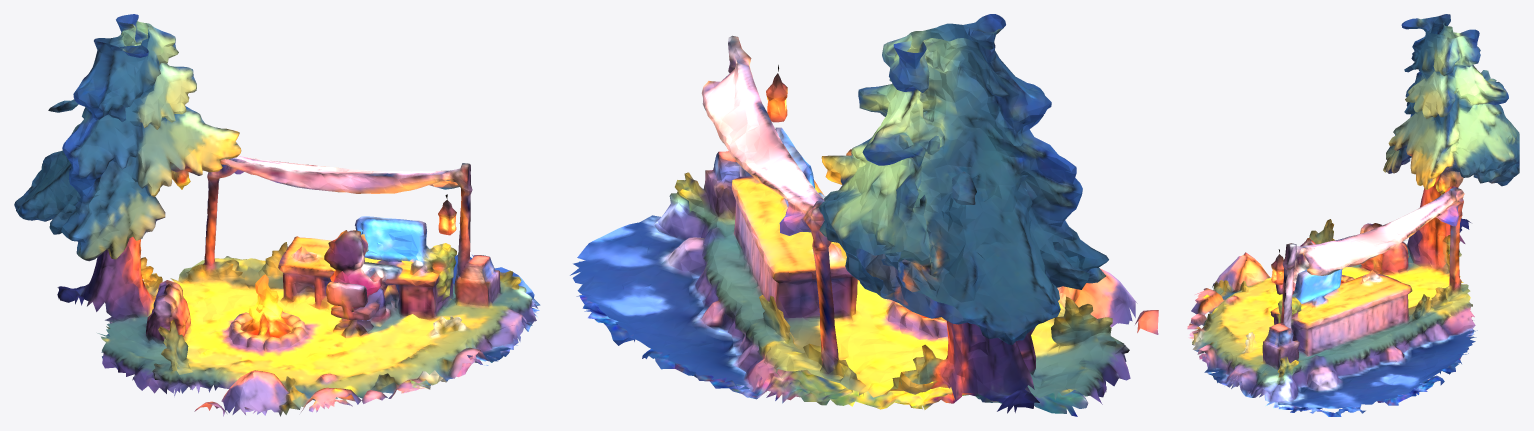
Rendered from island-edited.glb.
3 views of the same model, side by side, from view 1: azimuth 30°, elevation 25°; view 2: azimuth 150°, elevation 25°; view 3: azimuth 270°, elevation 25° (orthographic). The views are drawn at different scales.
Parts seen in each view (by area): view 1: geometry_0; view 2: geometry_0; view 3: geometry_0.
Boxes of the visible parts, left/top/right/bottom form: geometry_0: left=14, top=14, right=540, bottom=416; geometry_0: left=570, top=14, right=1158, bottom=416; geometry_0: left=1187, top=14, right=1519, bottom=416.
Bounding box in the file's own units: 9.05 × 5.96 × 7.07.
Materials: 1 (1 with a texture image).
